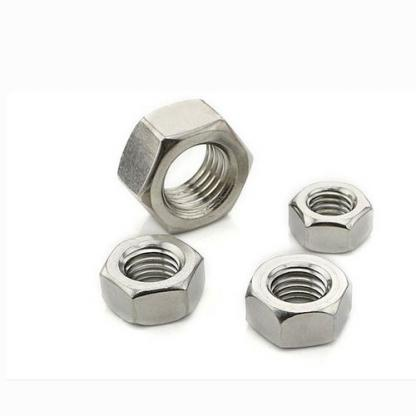FOD: (110, 96, 258, 237), (240, 249, 357, 353), (97, 231, 206, 327), (284, 179, 381, 257)
